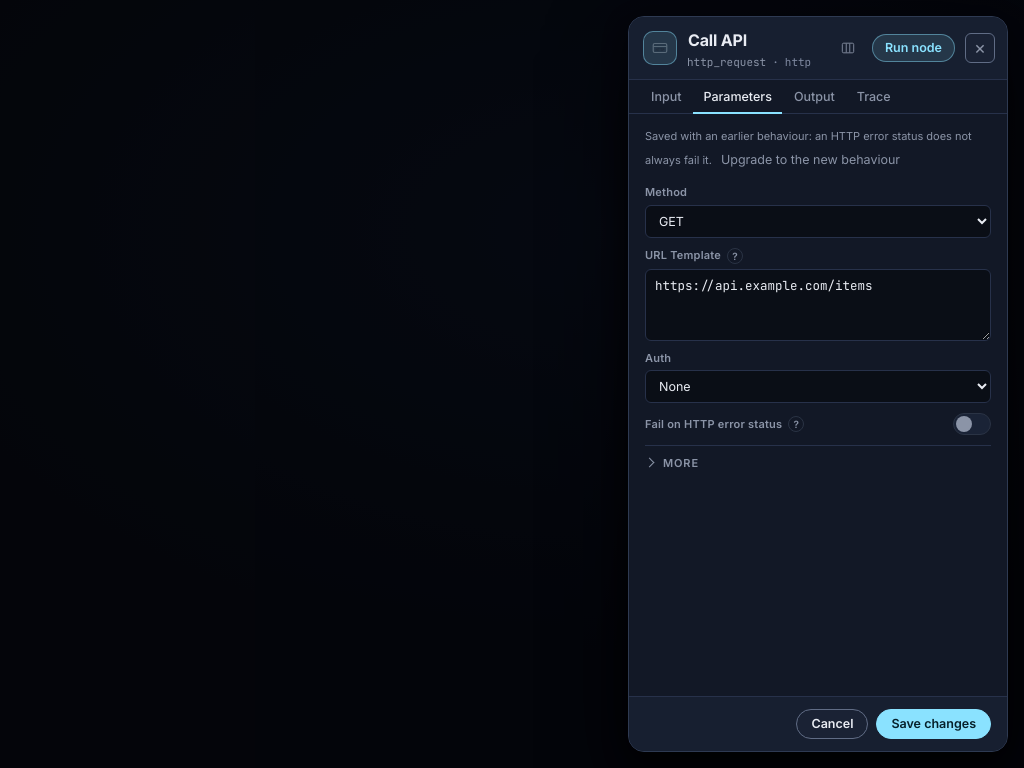
HTTP Request form › keeps Headers and Body under Advanced for GET and DELETE, and moves them out when the method changes
Expected: the field labelled "Body Template" is not shown
Expected: the field labelled "Headers Template (JSON)" is not shown
Select "POST" in the dropdown labelled "Method" at {"x": 818, "y": 221}, box [645, 204, 991, 238]
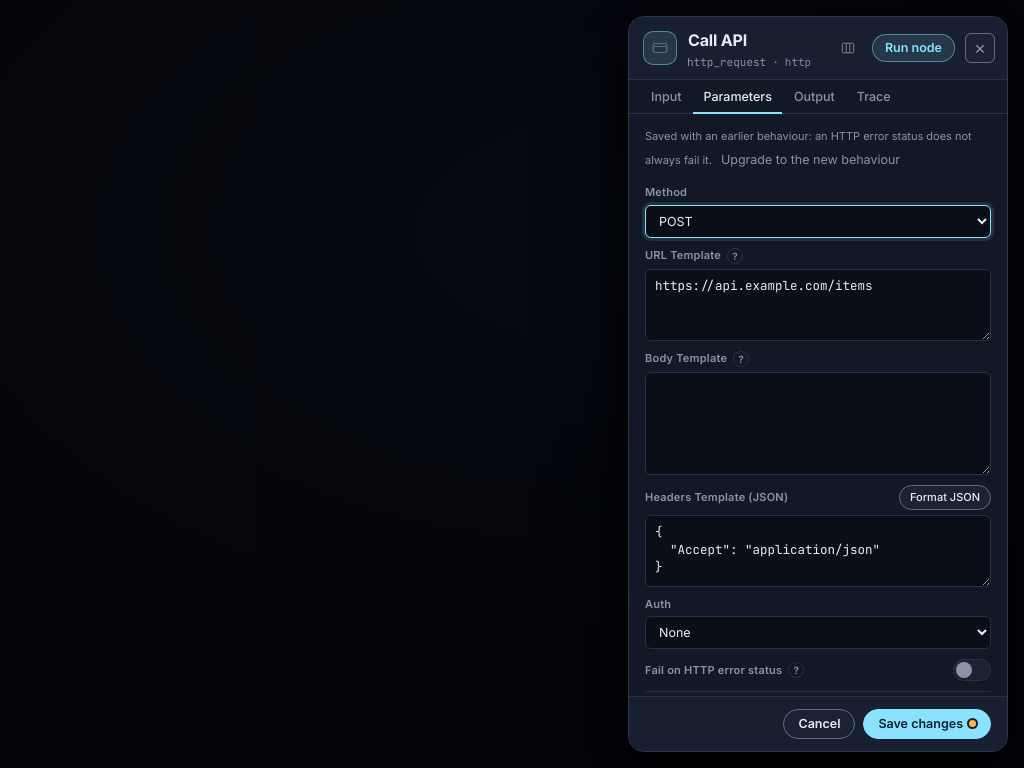
Expected: the text box named "Body Template" is shown, [645, 372, 991, 475]
Expected: the text box named "Headers Template (JSON)" is shown, [645, 515, 991, 587]
